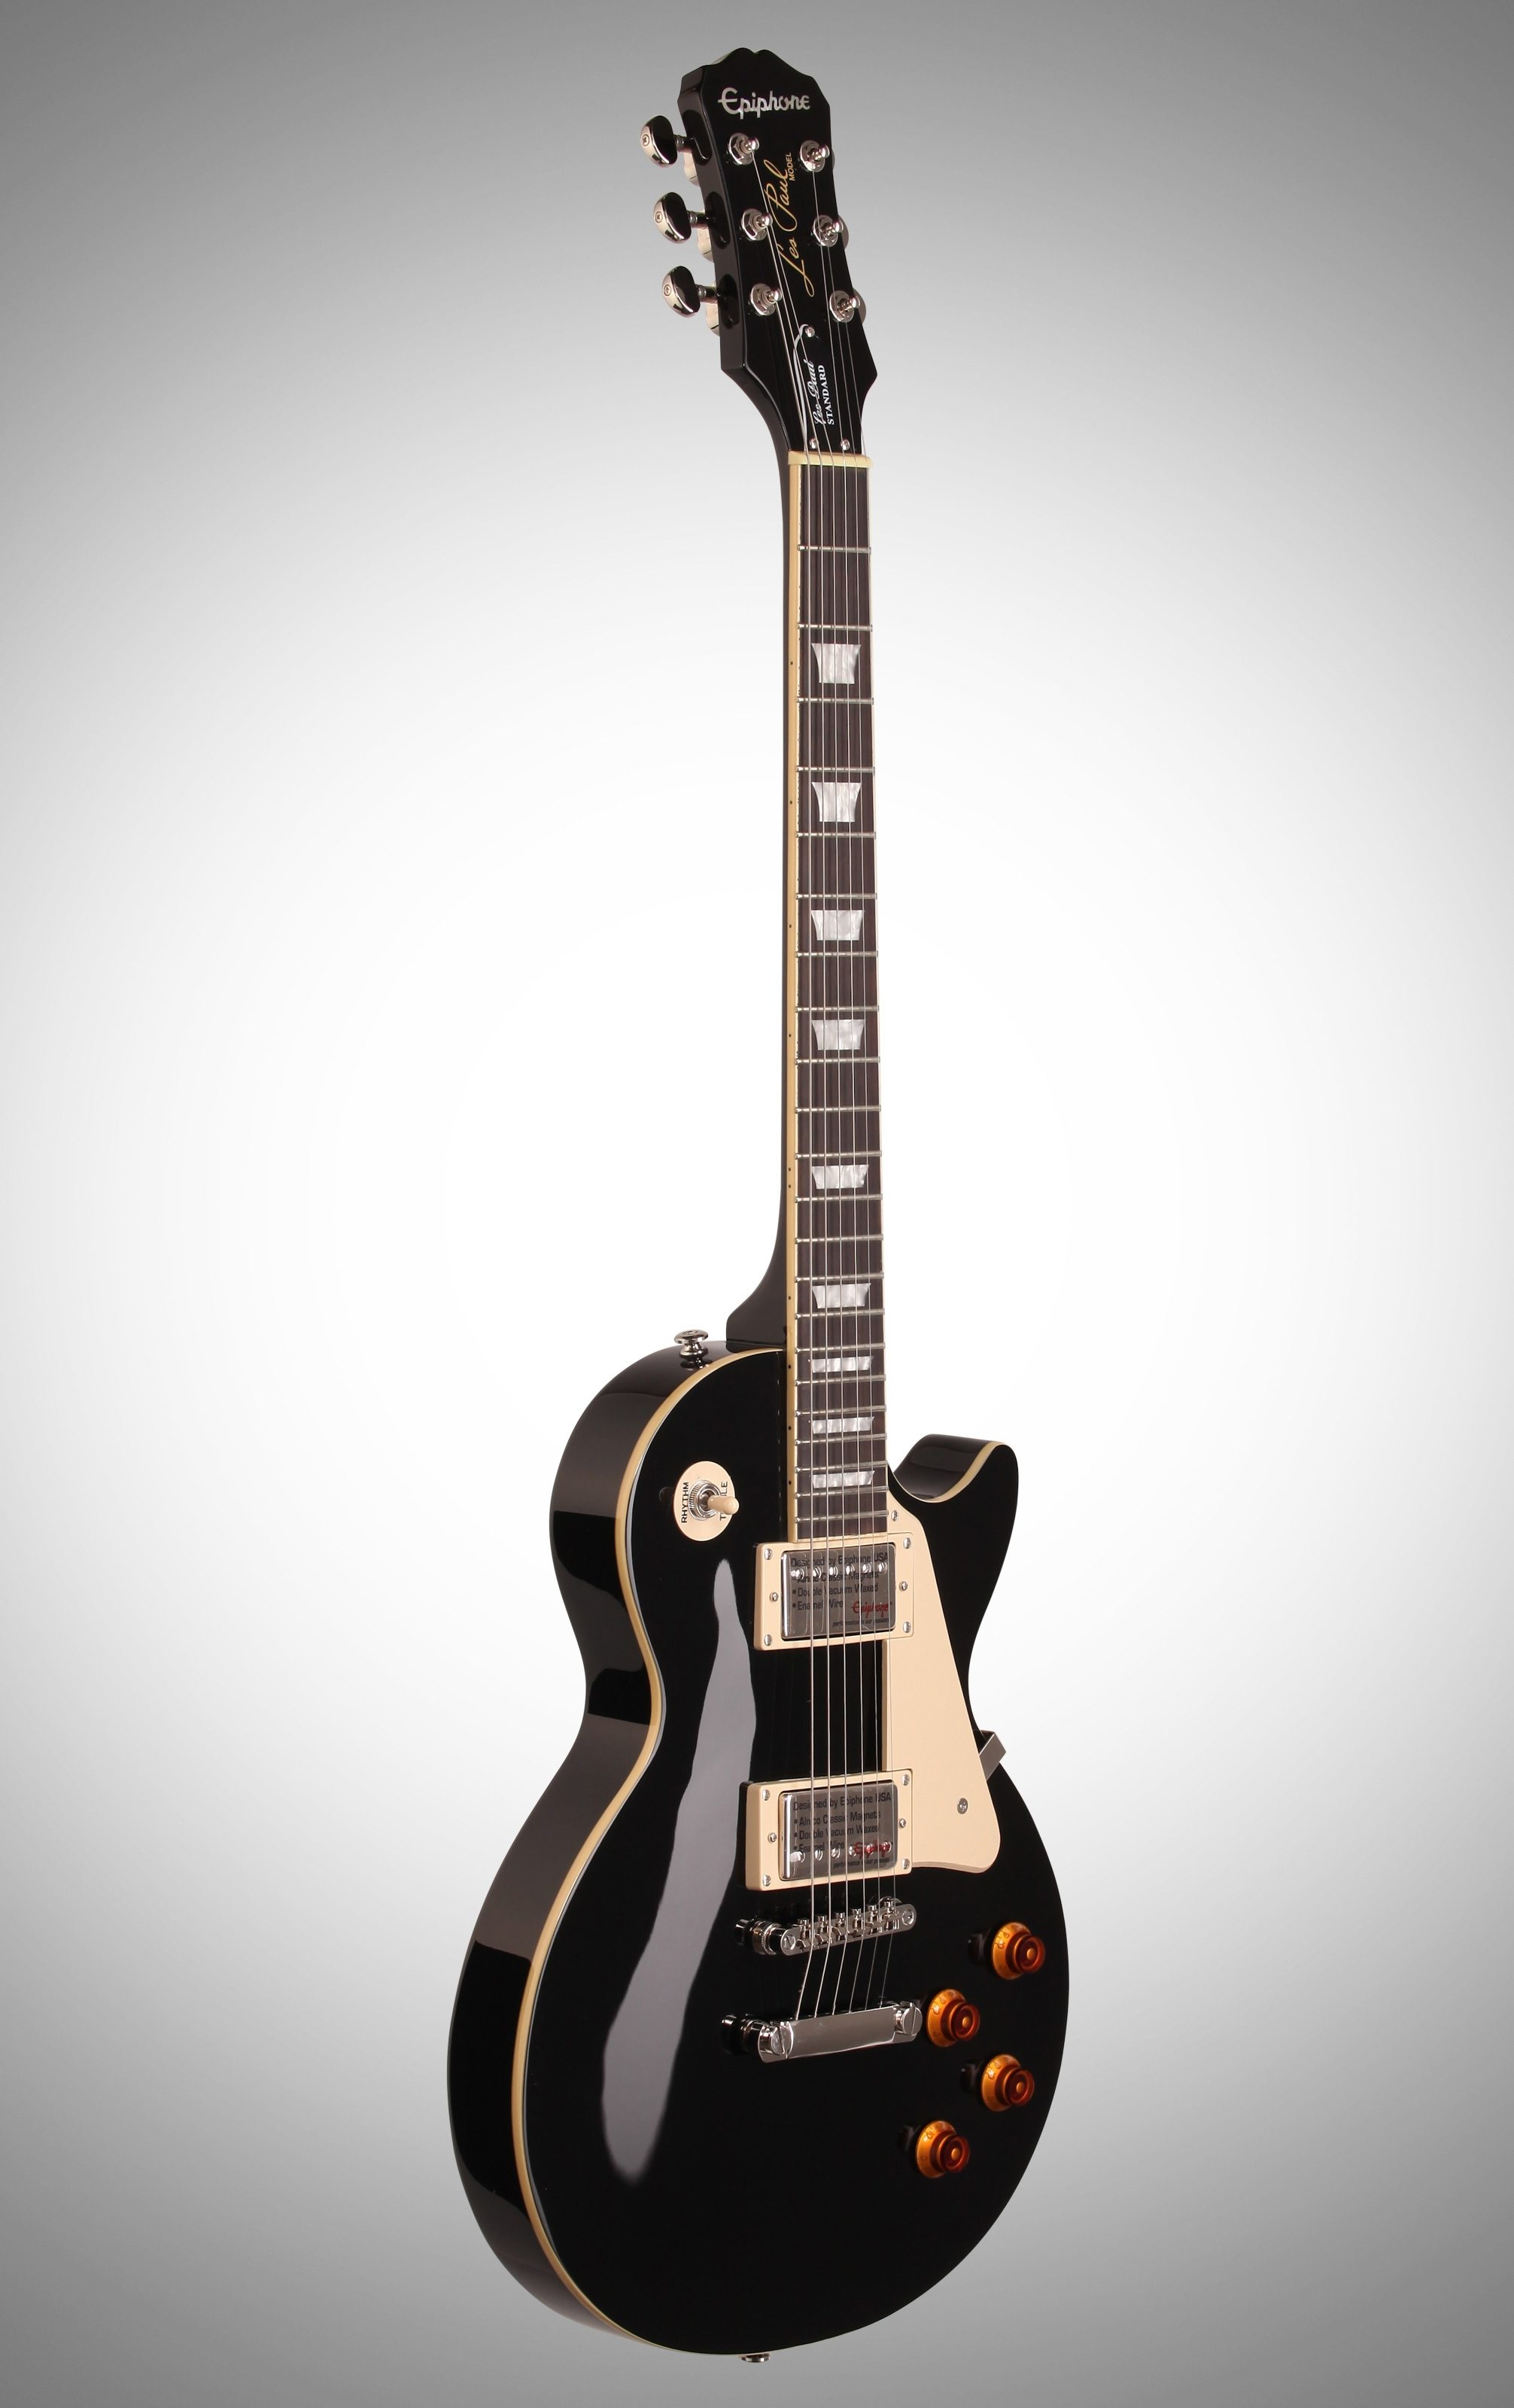ElectricGuitar: (441, 44, 1118, 2375)
